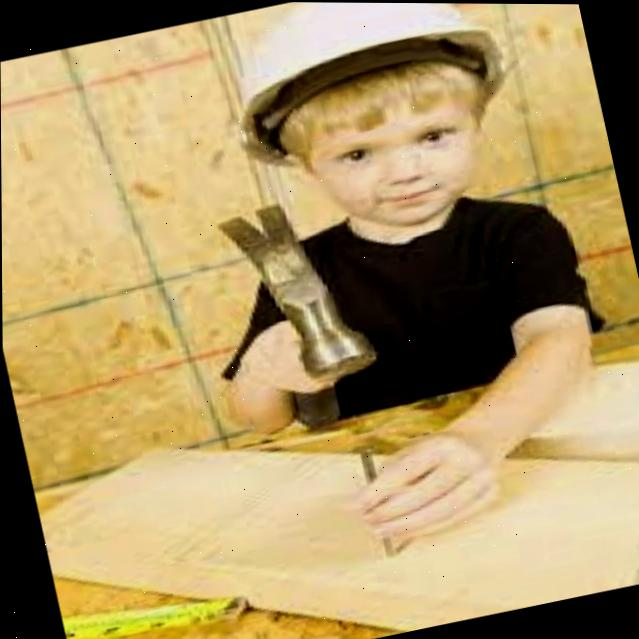hammer: (207, 182, 389, 403)
